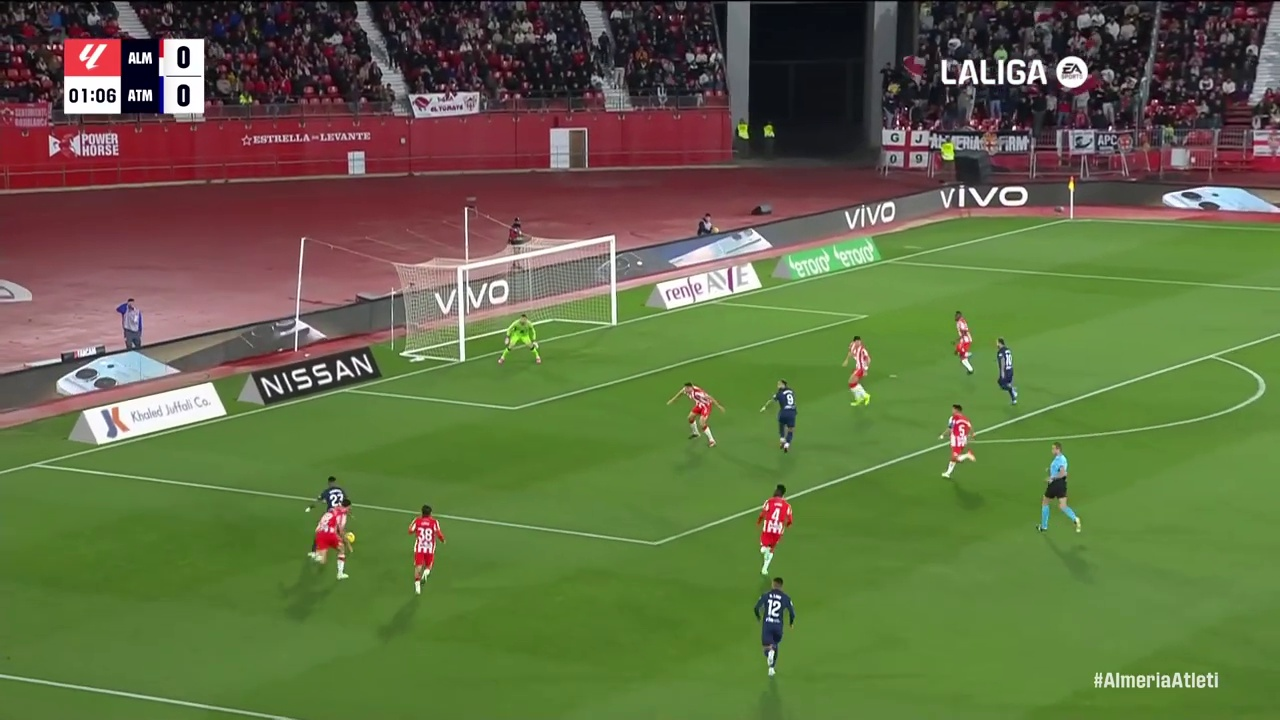ball: (179, 389, 205, 418)
